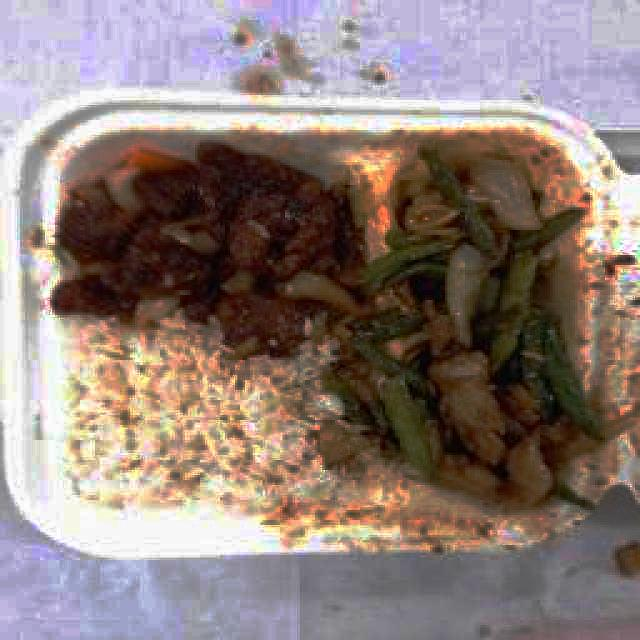Beijing Beef: (70, 141, 343, 338)
String Bean Chicken Breast: (351, 143, 588, 507)
rice: (52, 345, 310, 495)
